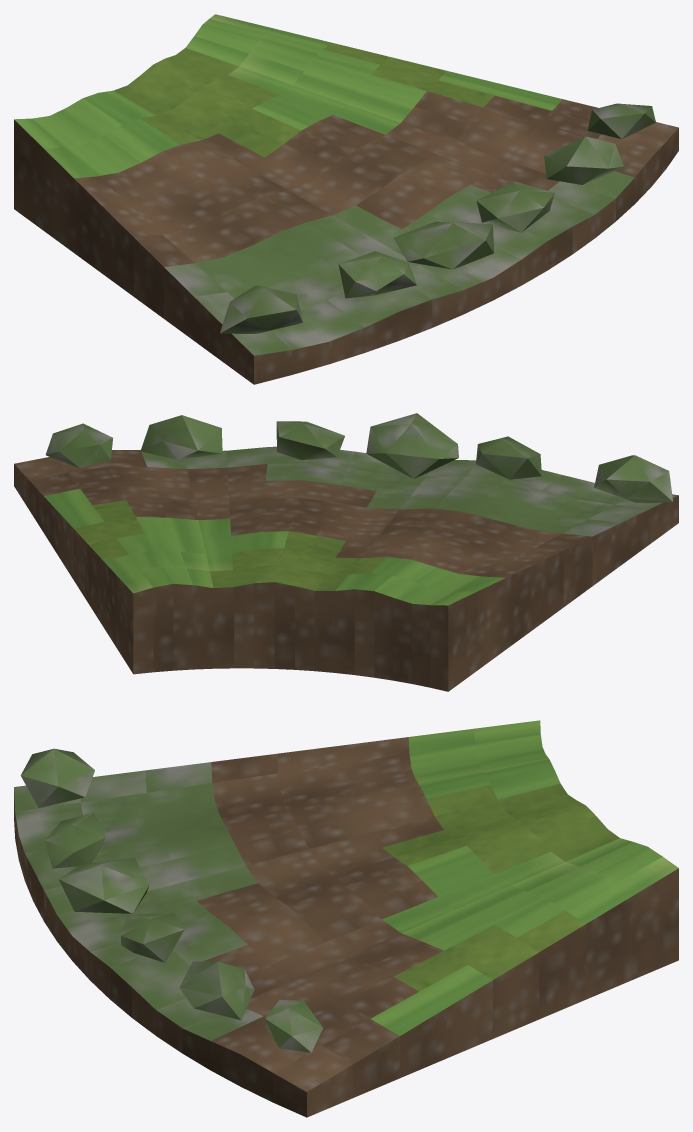
The model's file is SM_Riverbank_Bend.fbx.
3 renders of one model, top to bottom at view 1: azimuth 30°, elevation 25°; view 2: azimuth 150°, elevation 25°; view 3: azimuth 270°, elevation 25°, orthographic. The views are drawn at different scales.
Parts seen in each view (by area): view 1: SM_Riverbank_Bend; view 2: SM_Riverbank_Bend; view 3: SM_Riverbank_Bend.
Part boxes in pixels (x1,y1,x2,y2): SM_Riverbank_Bend: (14,14,678,384); SM_Riverbank_Bend: (14,413,678,691); SM_Riverbank_Bend: (14,720,678,1117).
Size of the model in its own units: 13.77 by 2.08 by 12.64.
1 material, 1 textured.
